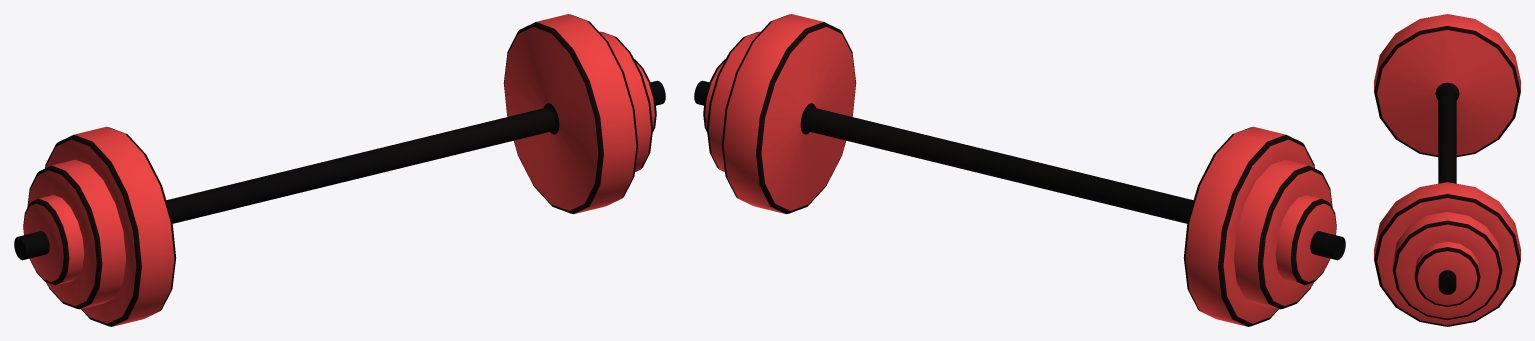
File: halter.fbx
The picture shows the model from 3 angles, left to right: view 1: azimuth 30°, elevation 25°; view 2: azimuth 150°, elevation 25°; view 3: azimuth 270°, elevation 25°; orthographic projection. The views are drawn at different scales.
Parts seen in each view (by area): view 1: halter; view 2: halter; view 3: halter.
Part boxes in pixels (box(x1,y1,x2,y2)): halter: box(14, 14, 665, 326); halter: box(694, 14, 1345, 326); halter: box(1374, 14, 1520, 326).
Bounding box in the file's own units: 7.5 × 2 × 2.
